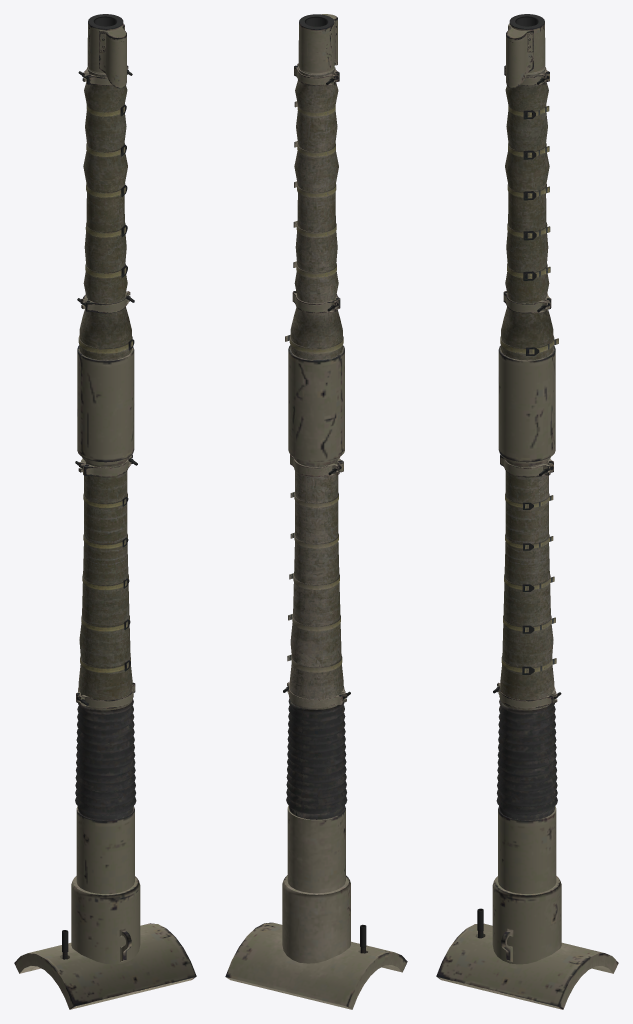
File: Gun_01.glb
The picture shows the model from 3 angles, left to right: view 1: azimuth 30°, elevation 25°; view 2: azimuth 150°, elevation 25°; view 3: azimuth 330°, elevation 25°; orthographic projection.
Visible parts, largest first — view 1: set_0_group_0; view 2: set_0_group_0; view 3: set_0_group_0.
Boxes of the visible parts, <box> form: set_0_group_0: <box>14,14,196,1009</box>; set_0_group_0: <box>225,14,407,1009</box>; set_0_group_0: <box>436,14,618,1009</box>.
Bounding box in the file's own units: 0.7 × 5.23 × 0.5996.
1 material, 1 textured.
